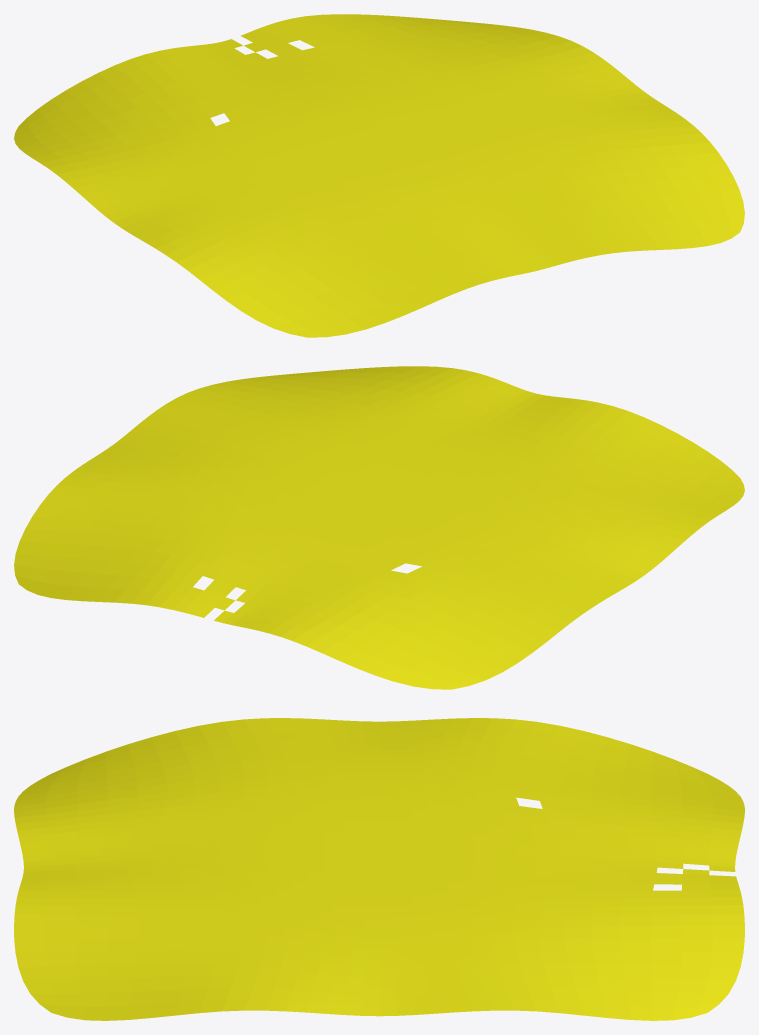
The model's file is queso.glb.
3 views of the same model, one above another, from view 1: azimuth 30°, elevation 25°; view 2: azimuth 150°, elevation 25°; view 3: azimuth 270°, elevation 25° (orthographic). The views are drawn at different scales.
Parts seen in each view (by area): view 1: queso.002; view 2: queso.002; view 3: queso.002.
Boxes of the visible parts, x1=… form: queso.002: x1=14, y1=14, x2=744, y2=337; queso.002: x1=14, y1=366, x2=744, y2=689; queso.002: x1=14, y1=718, x2=744, y2=1020.
Size of the model in its own units: 2 by 0.13 by 2.1.
